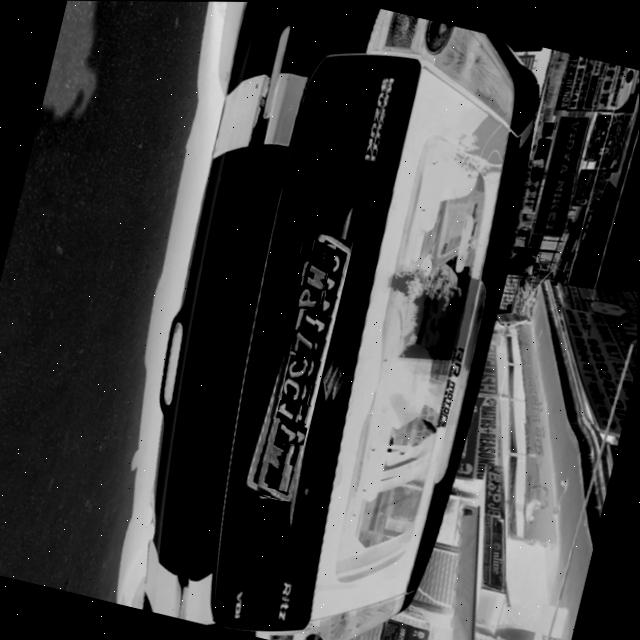0: (293, 308, 316, 336)
1: (269, 441, 294, 467), (276, 399, 302, 422), (274, 421, 298, 443)
2: (266, 460, 293, 491)
7: (290, 330, 316, 356)
C: (285, 352, 312, 381), (279, 376, 305, 406)
IND: (307, 240, 335, 269)
Indian_registered: (254, 233, 348, 500)
M: (298, 262, 327, 291)
P: (296, 285, 323, 312)
